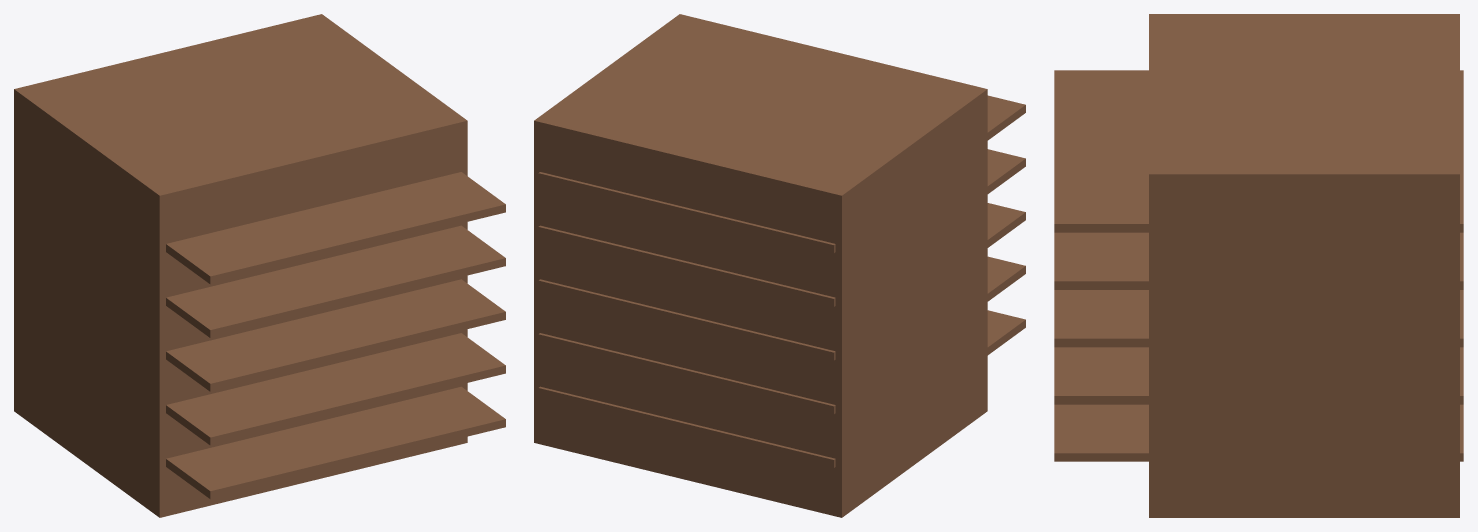
File: FacadeKit_WoodPanel_LOD0.glb
3 views of the same model, side by side, from view 1: azimuth 30°, elevation 25°; view 2: azimuth 150°, elevation 25°; view 3: azimuth 270°, elevation 25° (orthographic). The views are drawn at different scales.
Visible parts, largest first — view 1: FacadeKit_WoodPanel_LOD0; view 2: FacadeKit_WoodPanel_LOD0; view 3: FacadeKit_WoodPanel_LOD0.
Boxes of the visible parts, x1,y1,x2,y2 form: FacadeKit_WoodPanel_LOD0: (14, 14, 505, 517); FacadeKit_WoodPanel_LOD0: (534, 14, 1025, 517); FacadeKit_WoodPanel_LOD0: (1054, 14, 1463, 517).
Size of the model in its own units: 1 by 1 by 1.08.
